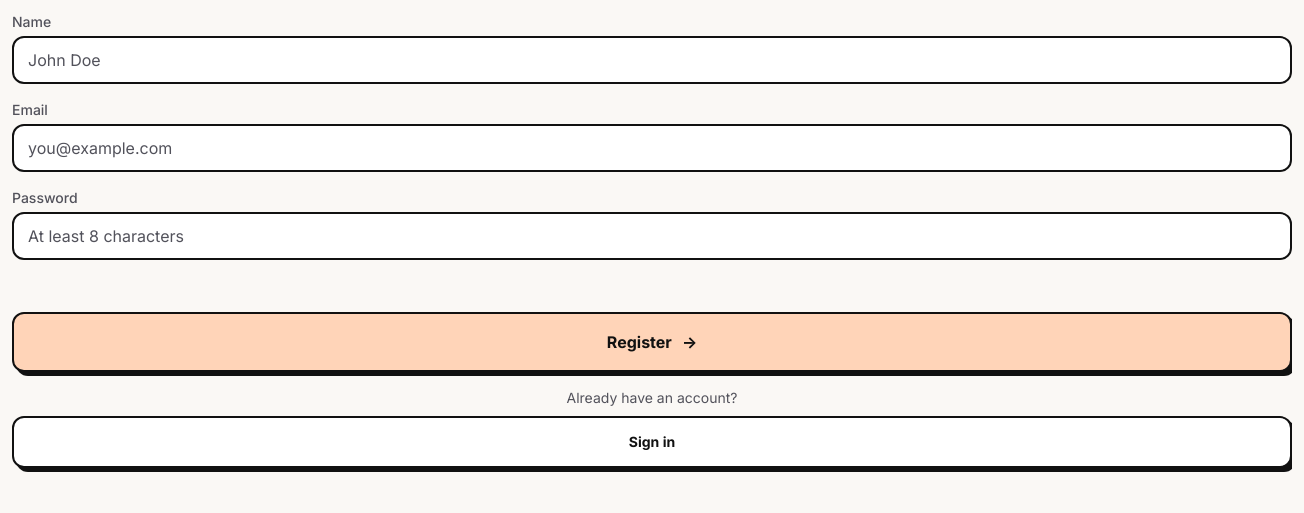
it: RegisterForm › should show validation error when password is too short
The image size is (1304, 513).
Type "John" into the field labelled "Name" at (652, 60), box [12,36,1292,84]
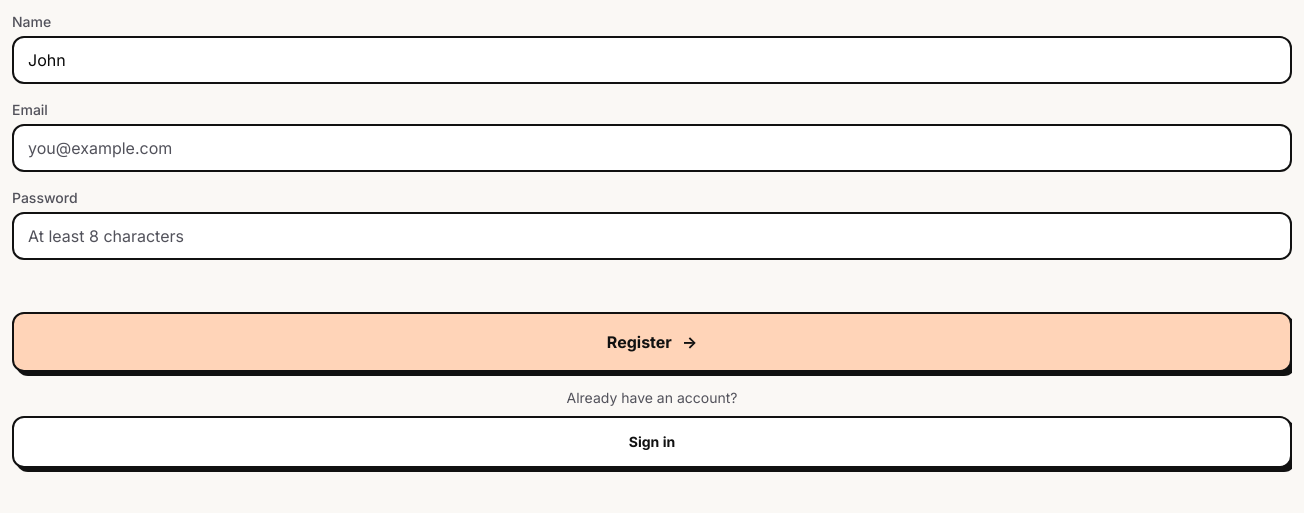
Type "john@example.com" into the field labelled "Email" at (652, 148), box [12,124,1292,172]
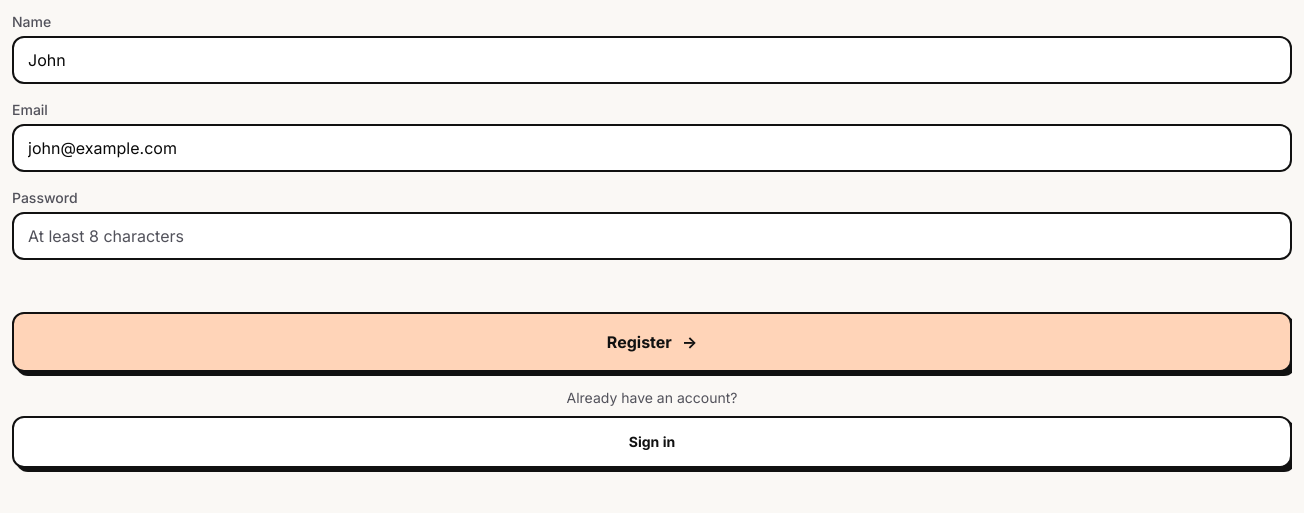
Type "short" into the password field labelled "Password" at (652, 236), box [12,212,1292,260]
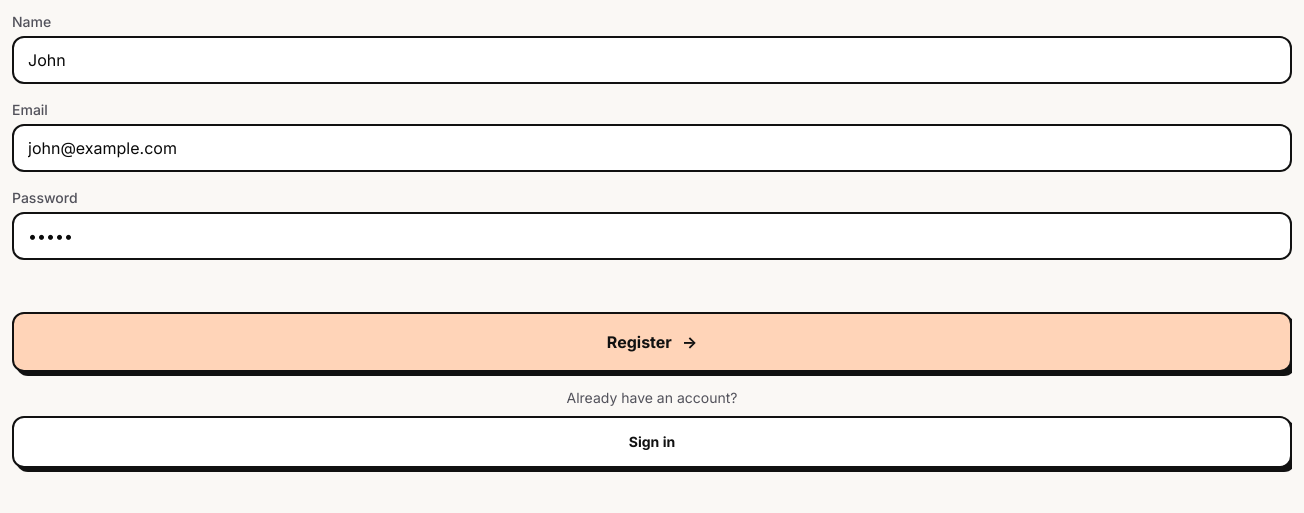
Click the button "Register →" at (652, 342), box [12,312,1292,372]
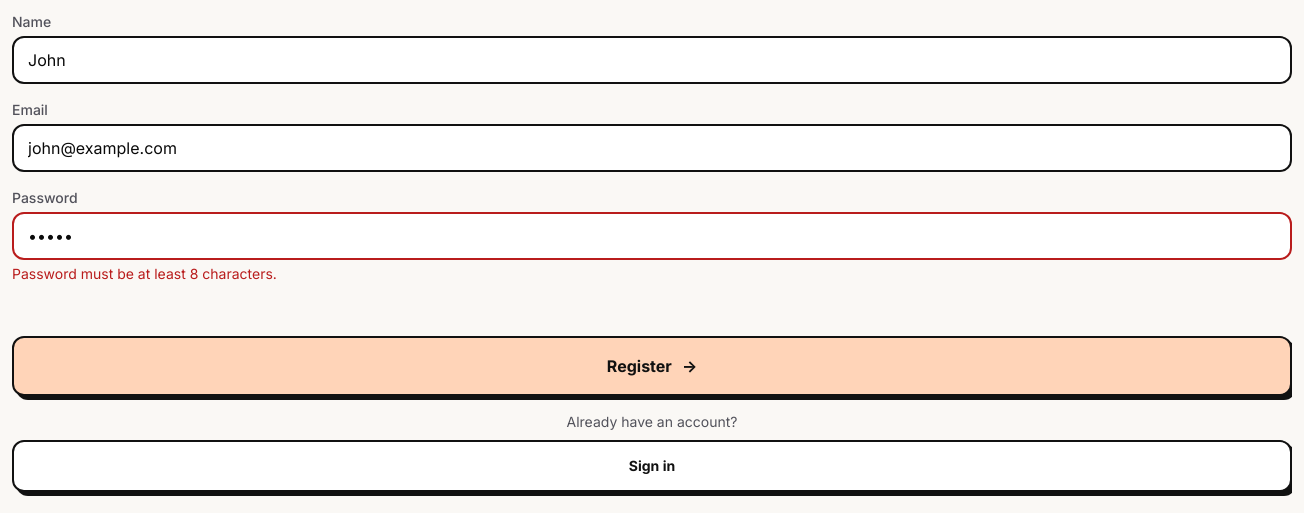
Expected: the text "Password must be at least 8 characters." is shown, [12,265,277,282]
